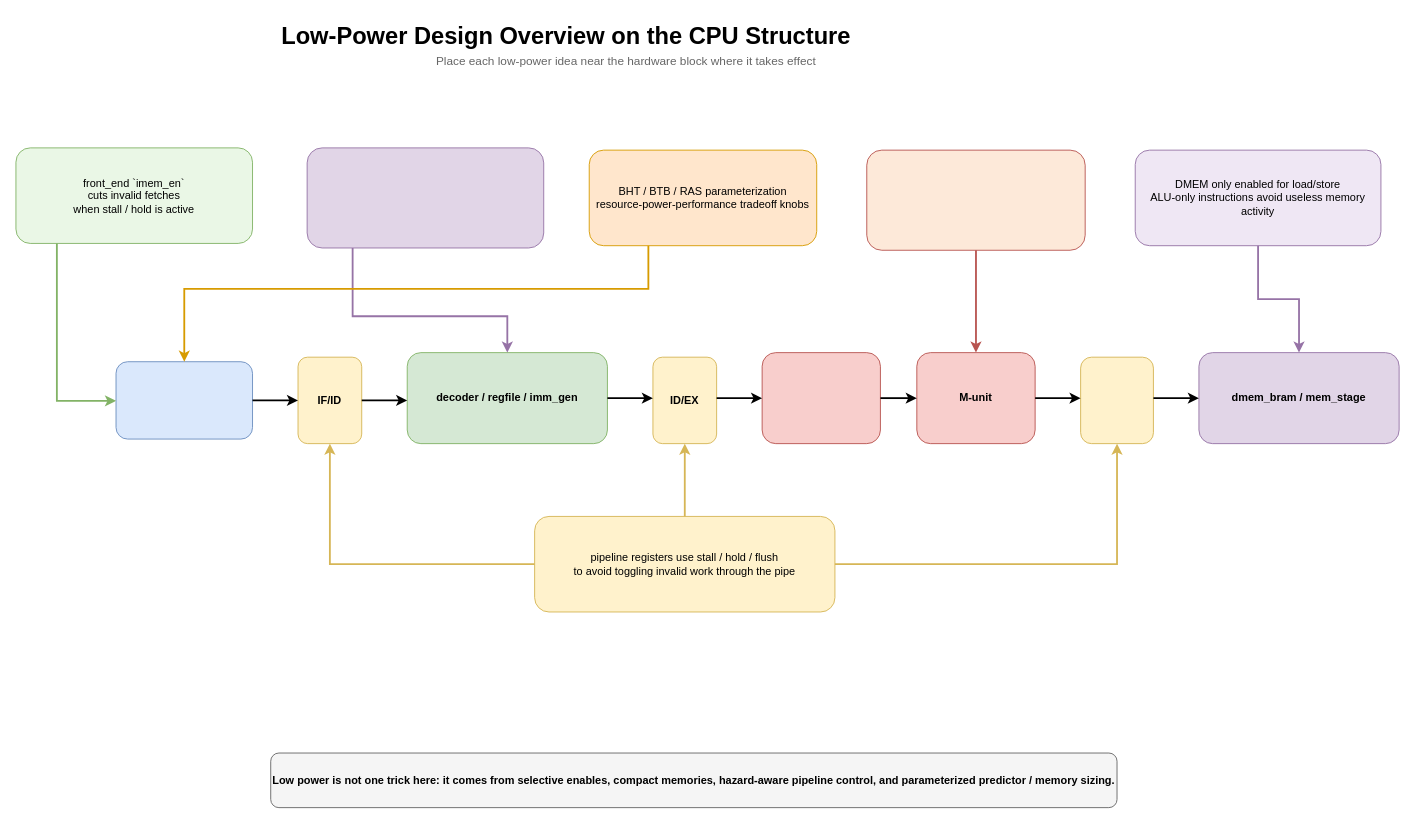
Image size: 1415x824. Some labels were removed from this diagram. Each missing label, with the centre of its shape:
DSP-friendly multiplication iterative division good area and power balance: (975,199)
EX/MEM: (1116,400)
ex_stage: (820,398)
front_end: (184,400)
memory profile switch 1024-word compact FPGA mode 8192-word board benchmark mode: (425,197)
